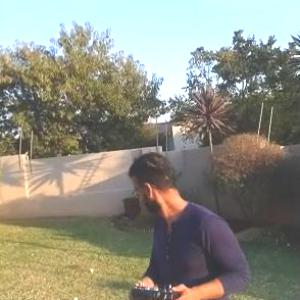follow: (125, 146, 259, 299)
